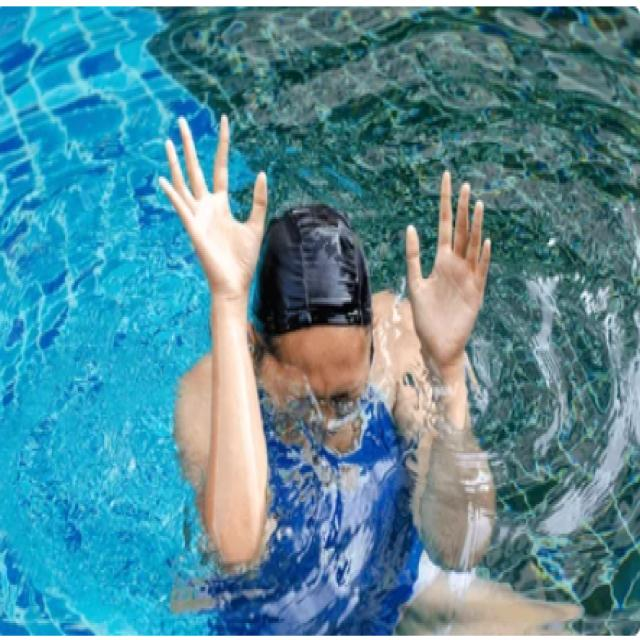Drowning: (148, 120, 499, 570)
